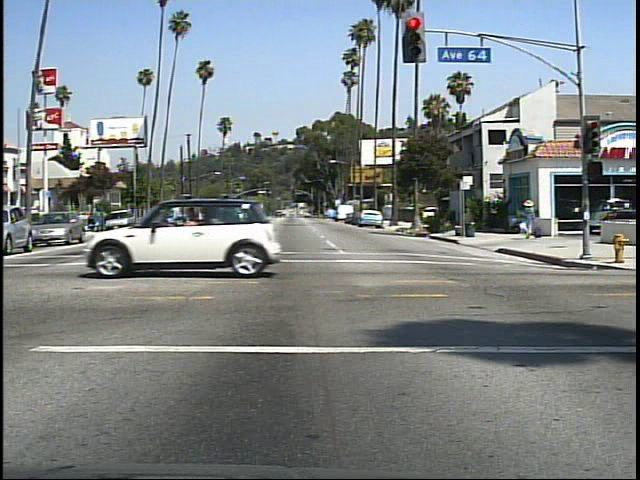person: (517, 195, 543, 243)
